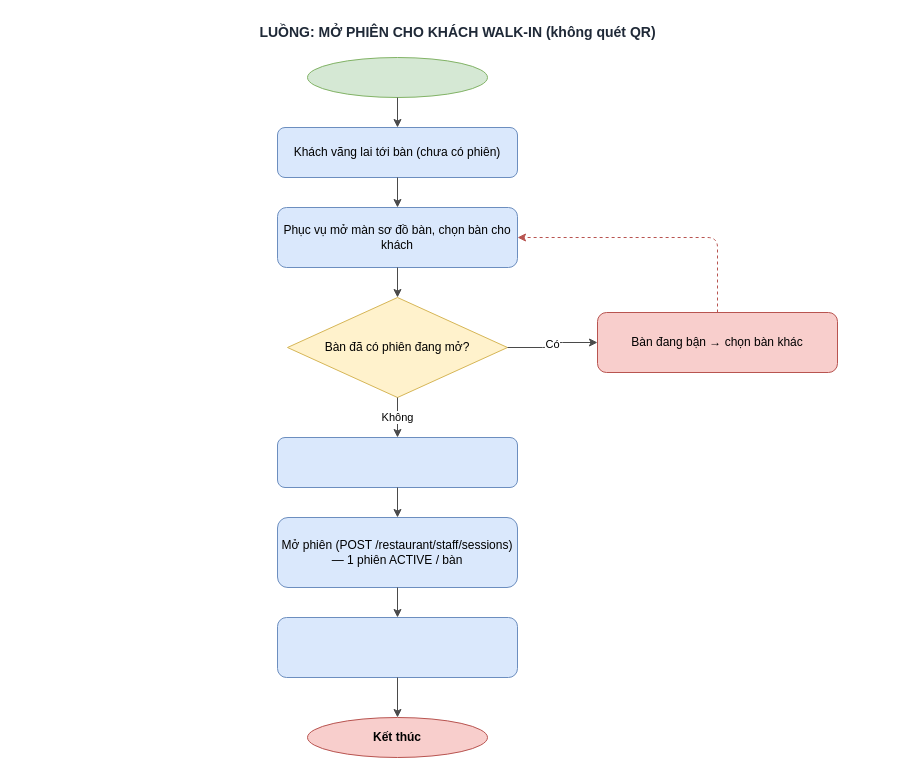
Some shapes in this 914 by 775 pixel diagram are drawn without their labels. Here are the shapes that lost their labels. From the top down, the box of each, then its label:
(306, 56, 488, 98): Bắt đầu
(276, 436, 518, 488): Nhập số lượng khách
(276, 616, 518, 678): Phiên ACTIVE → khách gọi món (hoặc phục vụ gọi hộ)
